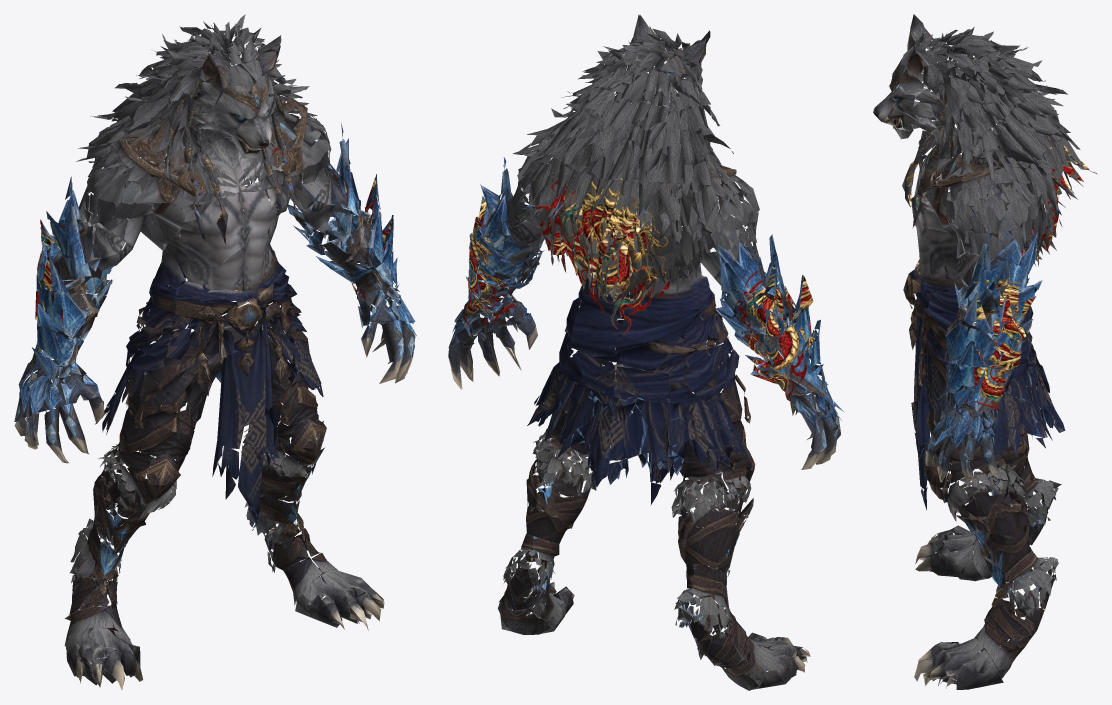
Rendered from bilge.glb.
3 renders of one model, left to right at view 1: azimuth 30°, elevation 25°; view 2: azimuth 150°, elevation 25°; view 3: azimuth 270°, elevation 25°, orthographic. The views are drawn at different scales.
Visible parts, largest first — view 1: Body_bilge, Tattoo_left_surface; view 2: Body_bilge, Tattoo_back_surface, Tattoo_left_surface, Tattoo_right_surface; view 3: Body_bilge, Tattoo_right_surface, Tattoo_back_surface.
Boxes of the visible parts, left/top/right/bottom form: Body_bilge: left=14, top=14, right=419, bottom=690; Tattoo_left_surface: left=35, top=220, right=90, bottom=341; Body_bilge: left=448, top=14, right=843, bottom=690; Tattoo_back_surface: left=536, top=178, right=684, bottom=337; Tattoo_left_surface: left=735, top=266, right=816, bottom=407; Tattoo_right_surface: left=462, top=196, right=525, bottom=331; Body_bilge: left=873, top=14, right=1097, bottom=689; Tattoo_right_surface: left=953, top=273, right=1035, bottom=411; Tattoo_back_surface: left=906, top=138, right=1096, bottom=288.
Size of the model in its own units: 1.45 by 2.24 by 0.7641.
Materials: 4 (4 with a texture image).
